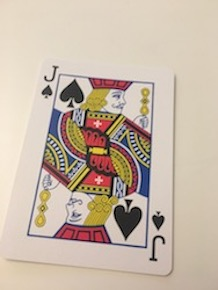JackOfSpades: (1, 52, 182, 280)
